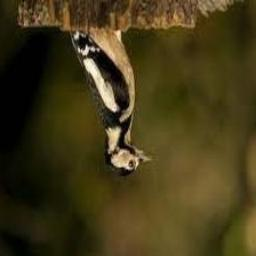Woodpecker: (70, 30, 154, 176)
